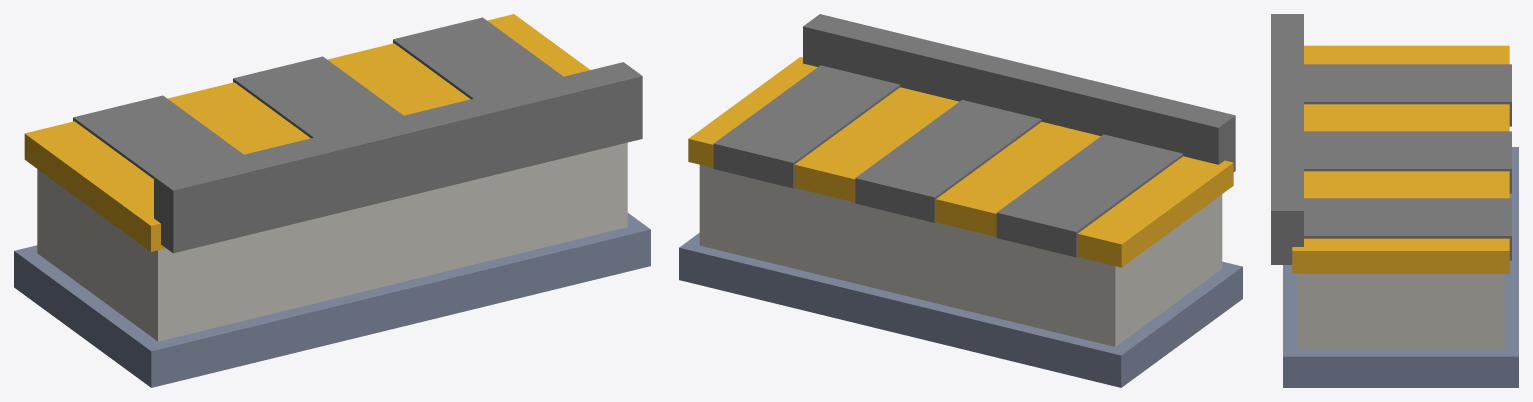
Rendered from pit_kerb.glb.
3 views of the same model, side by side, from view 1: azimuth 30°, elevation 25°; view 2: azimuth 150°, elevation 25°; view 3: azimuth 270°, elevation 25° (orthographic). The views are drawn at different scales.
Visible parts, largest first — view 1: pit_kerb; view 2: pit_kerb; view 3: pit_kerb.
Part boxes in pixels (x1,y1,x2,y2): pit_kerb: (14, 14, 650, 387); pit_kerb: (679, 14, 1242, 387); pit_kerb: (1271, 14, 1518, 387).
Size of the model in its own units: 1 by 0.38 by 0.5.
